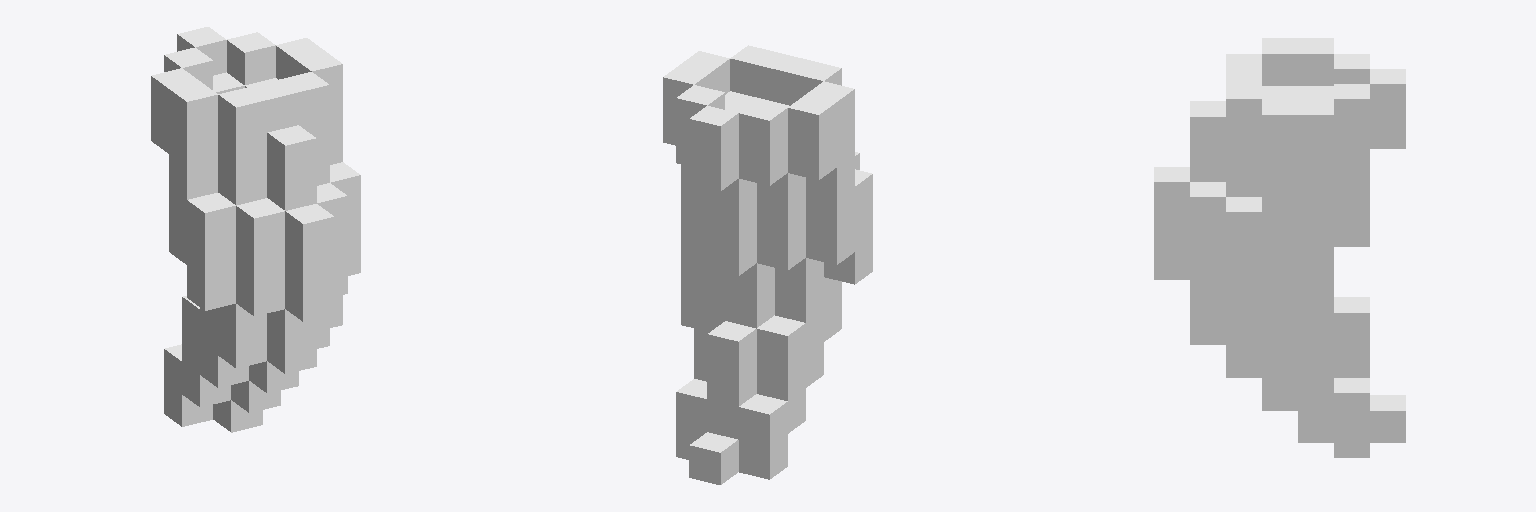
Rendered from BlueTubularCoralMedium-0.obj.
3 views of the same model, side by side, from view 1: azimuth 30°, elevation 25°; view 2: azimuth 150°, elevation 25°; view 3: azimuth 270°, elevation 25° (orthographic).
Visible parts, largest first — view 1: object 1; view 2: object 1; view 3: object 1.
Boxes of the visible parts, x1,y1,x2,y2 form: object 1: [151, 27, 360, 432]; object 1: [663, 45, 872, 484]; object 1: [1154, 38, 1405, 457].
Bounding box in the file's own units: 0.5 × 1.1 × 0.7.